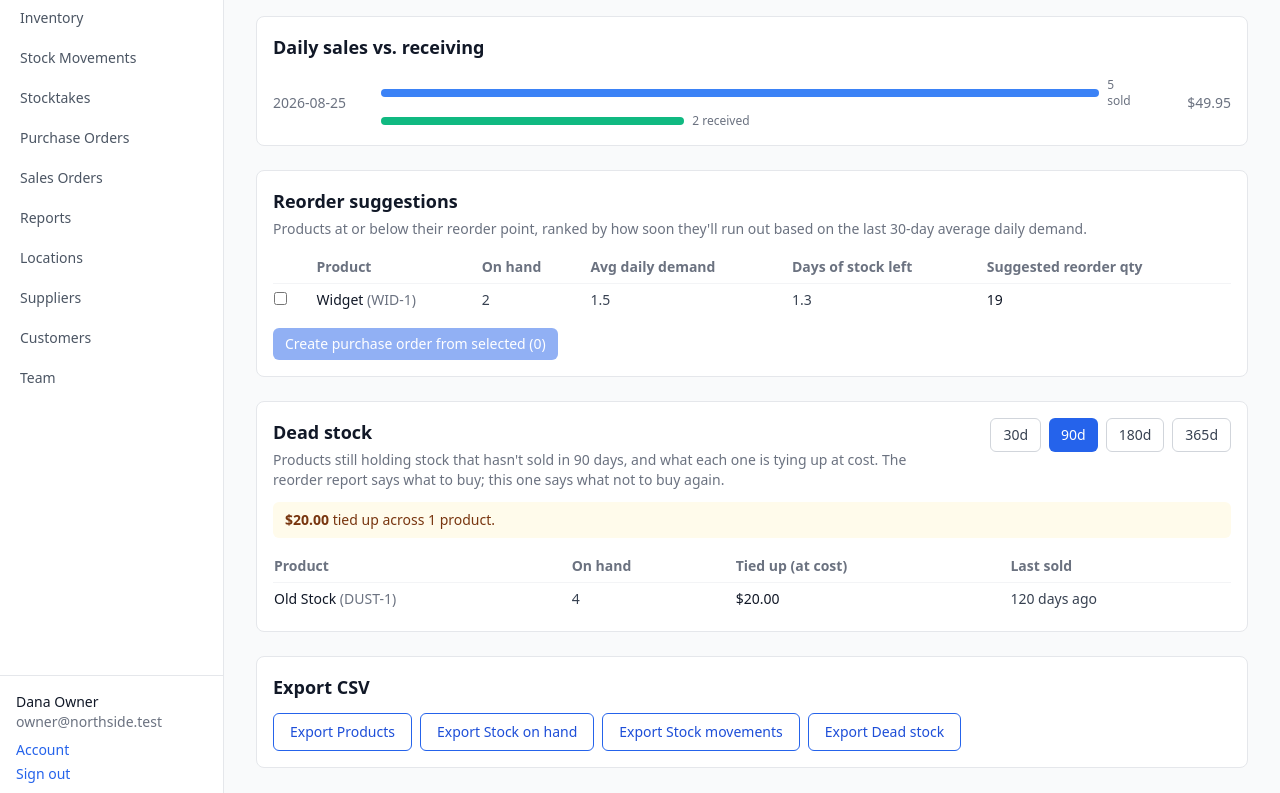
it: ReportsPage export › surfaces a failed export rather than failing silently
(page scrolled)
Expected: the text "Widget" is shown, [316,290,363,309]
What coordinates should you click on to do the following:
click the button "Export Stock on hand"
I would click on:
 (507, 732)
Its box is [420,713,594,751].
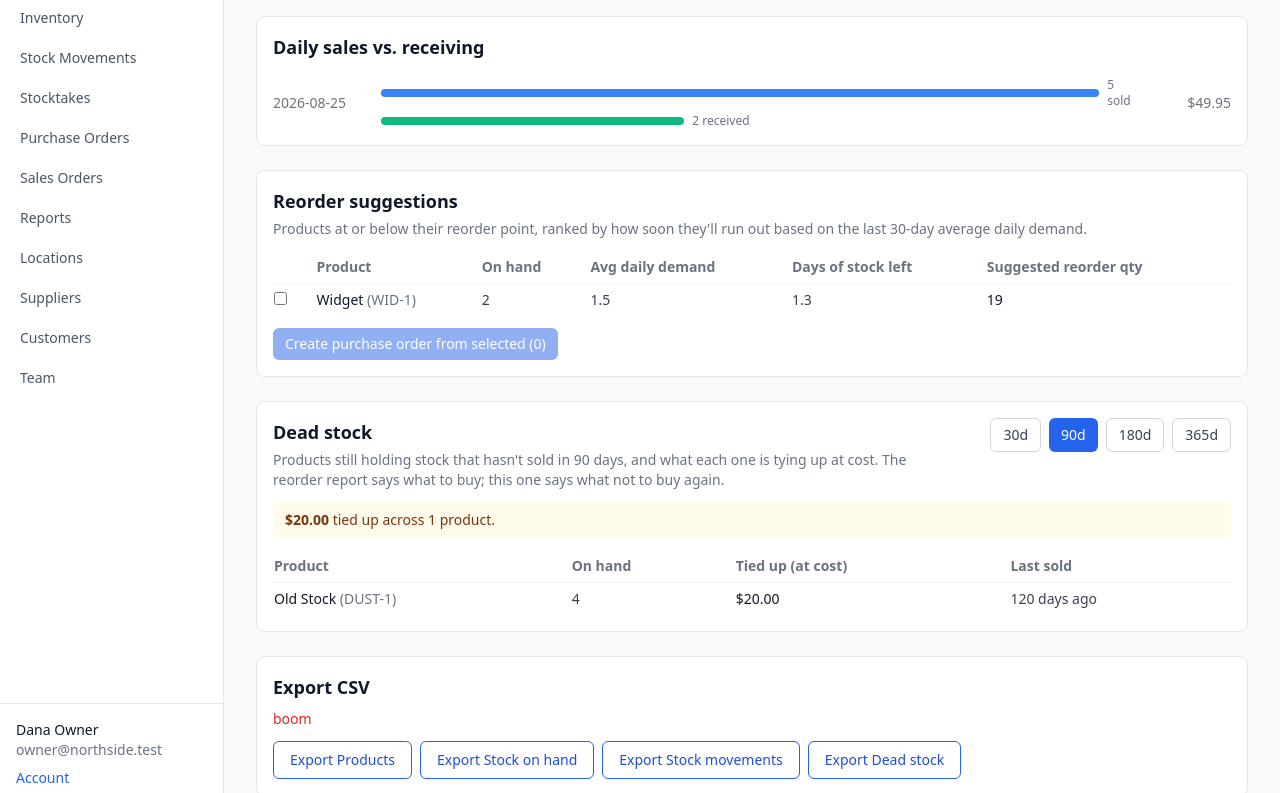
Expected: the text "boom" is shown, [273,709,312,728]
